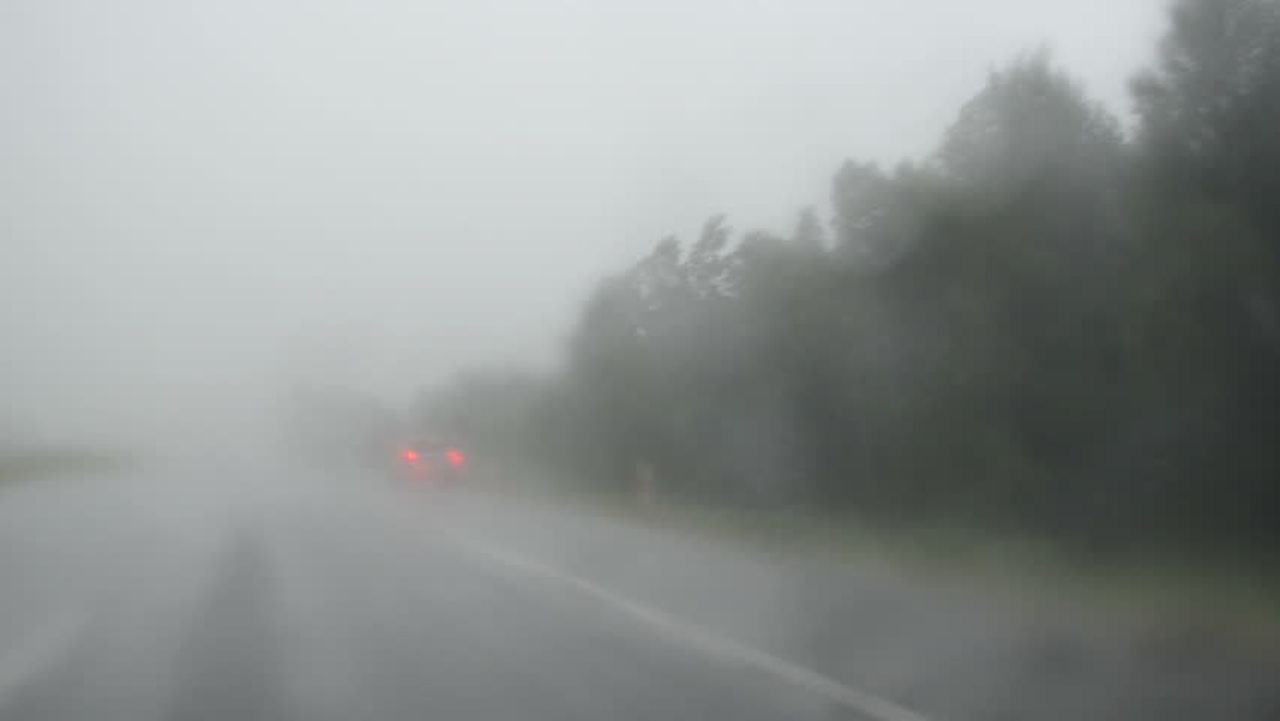car: (391, 429, 464, 488)
